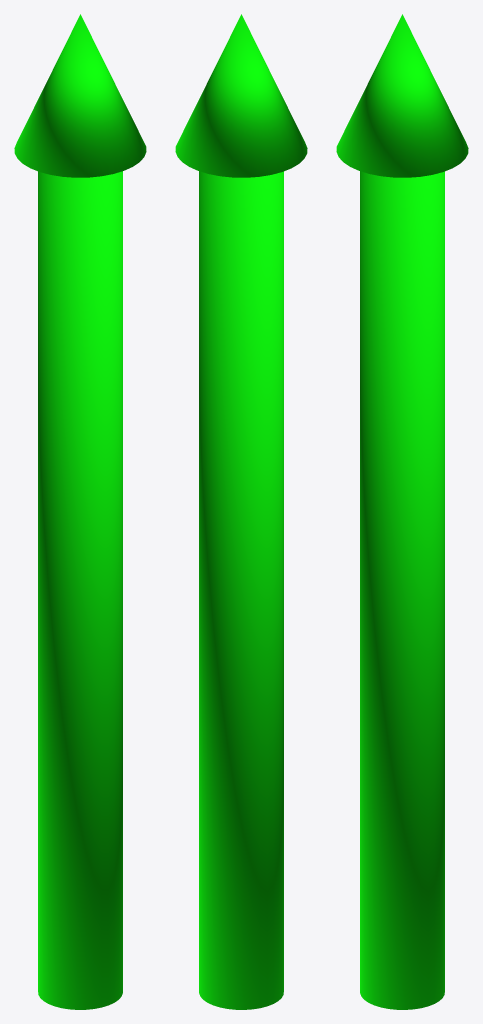
The model's file is gizmo_loc_y.obj.
3 renders of one model, left to right at view 1: azimuth 30°, elevation 25°; view 2: azimuth 150°, elevation 25°; view 3: azimuth 330°, elevation 25°, orthographic.
Parts seen in each view (by area): view 1: LocationGizmo.001; view 2: LocationGizmo.001; view 3: LocationGizmo.001.
Part boxes in pixels (<box>): LocationGizmo.001: <box>14,14,146,1009</box>; LocationGizmo.001: <box>175,14,307,1009</box>; LocationGizmo.001: <box>336,14,468,1009</box>.
Bounding box in the file's own units: 0.2361 × 1.92 × 0.234.
